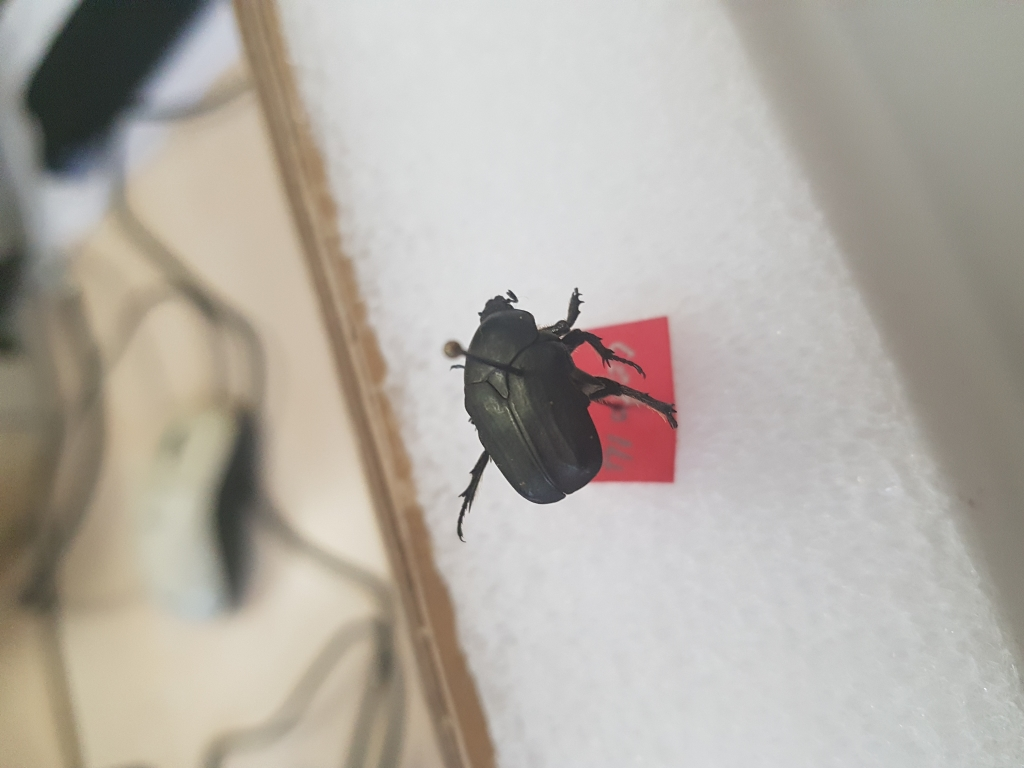Protaetia_vidua: (449, 274, 689, 543)
